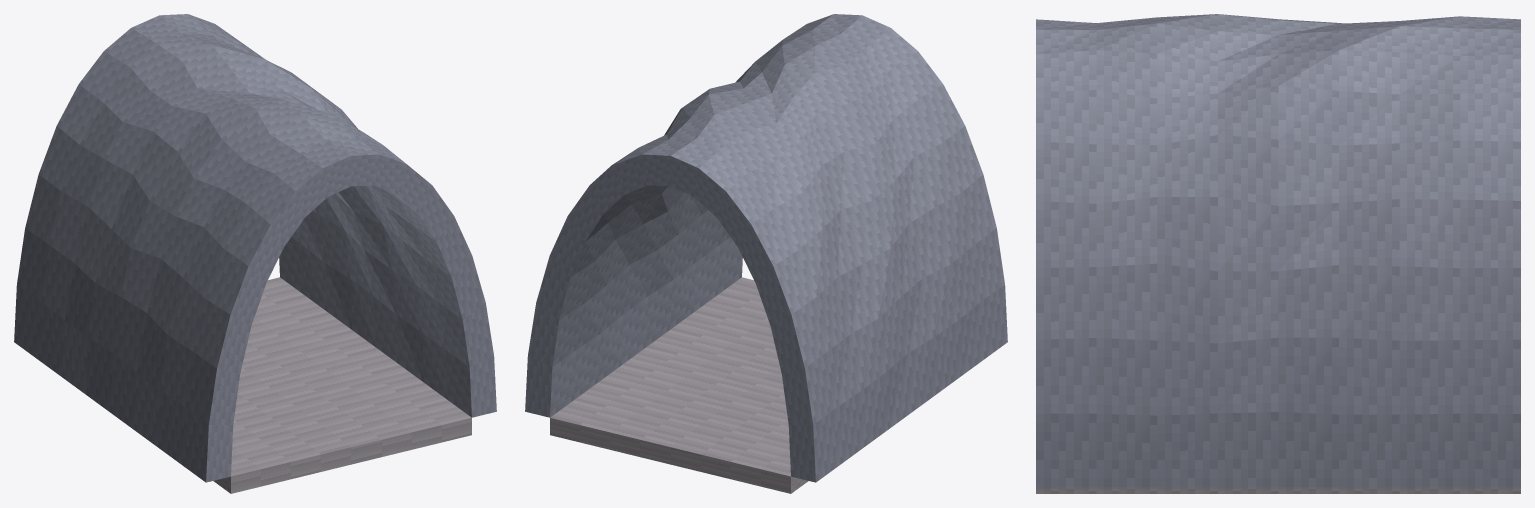
The model's file is cave-and-crystal-networks-crystal-lined-straight-361f063b.glb.
3 renders of one model, left to right at view 1: azimuth 30°, elevation 25°; view 2: azimuth 150°, elevation 25°; view 3: azimuth 270°, elevation 25°, orthographic. The views are drawn at different scales.
Visible parts, largest first — view 1: crystal-lined-straight; view 2: crystal-lined-straight; view 3: crystal-lined-straight.
Part boxes in pixels (box(x1,y1,x2,y2)): crystal-lined-straight: box(14, 14, 496, 493); crystal-lined-straight: box(525, 14, 1007, 493); crystal-lined-straight: box(1036, 14, 1520, 493).
Bounding box in the file's own units: 3.5 × 3.61 × 4.
Materials: 3 (3 with a texture image).
